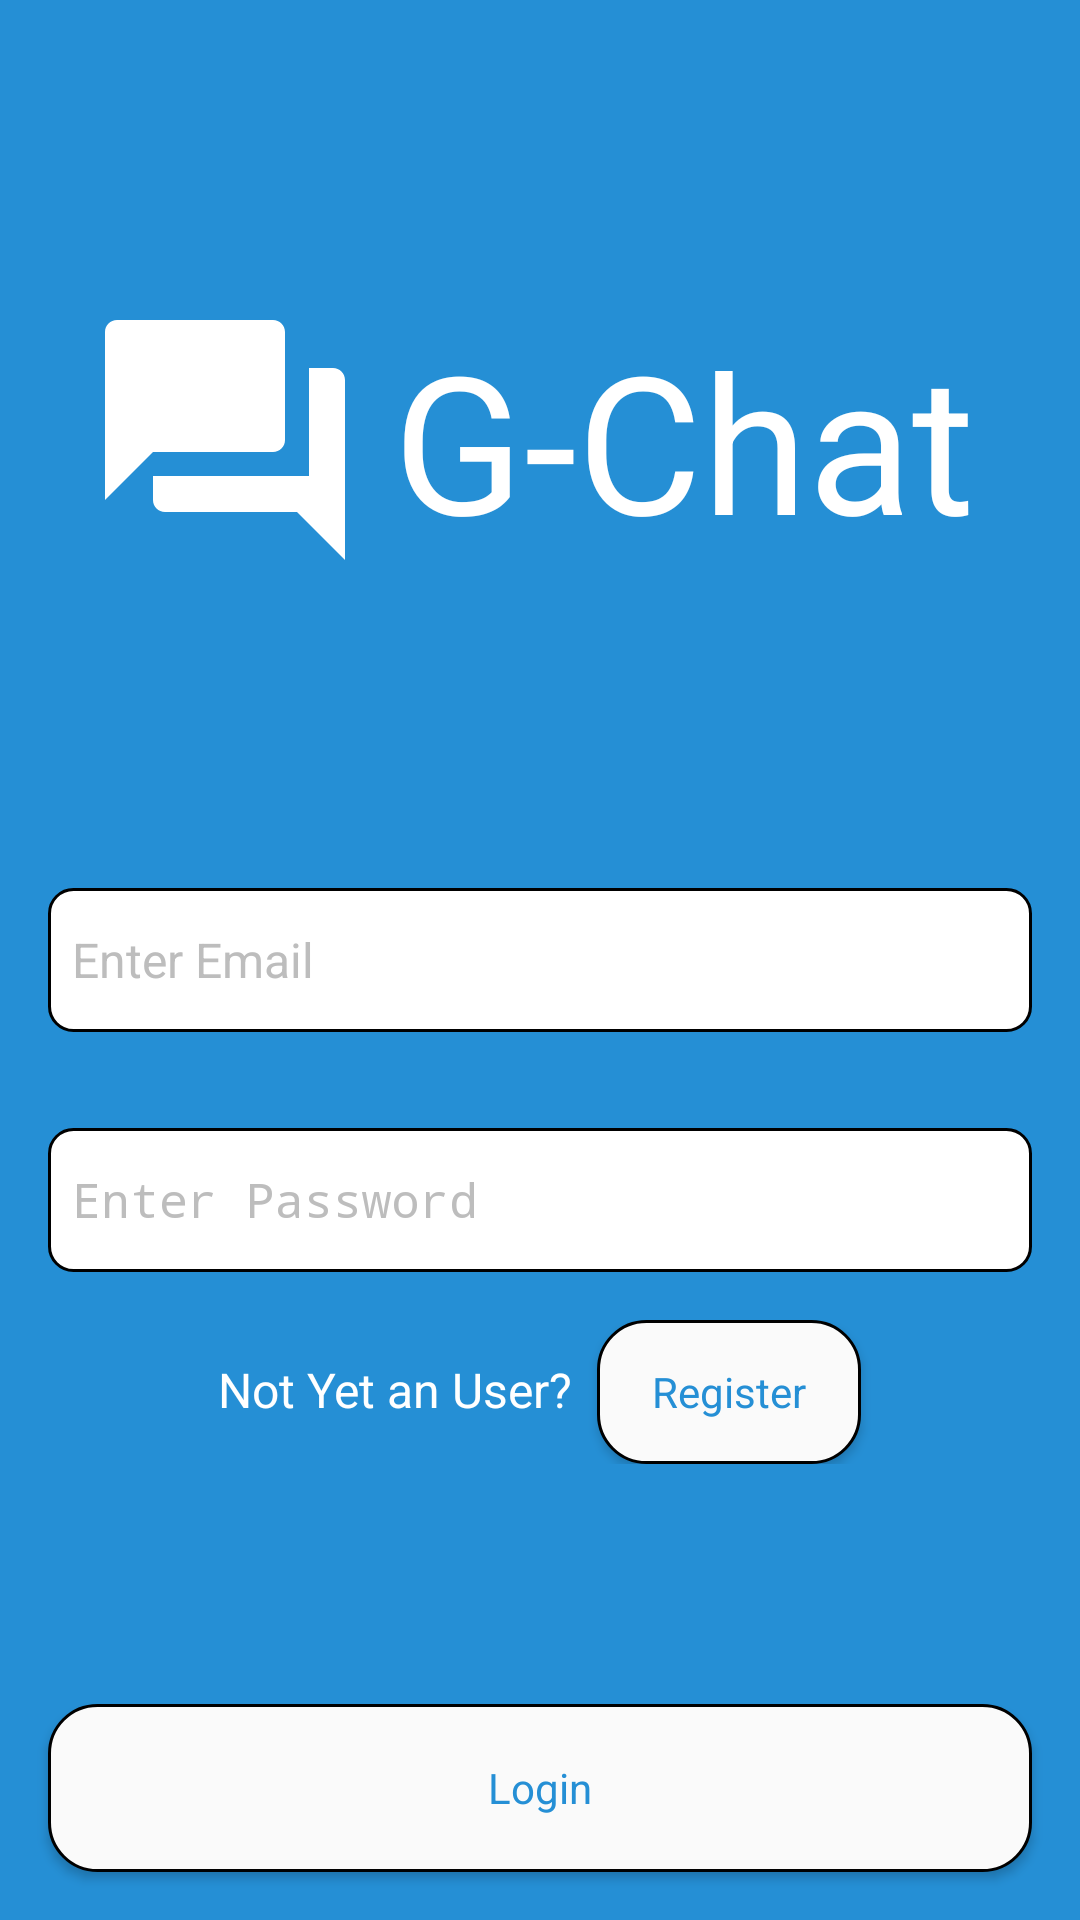

Icon bounding boxes for this 1080*1920 phone screenshot, format Rect(x1, y1, x2, y2):
question answer: Rect(105, 320, 345, 560)
